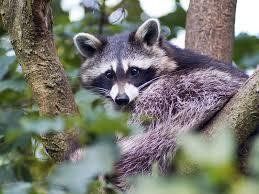raccoon: (55, 5, 259, 194)
